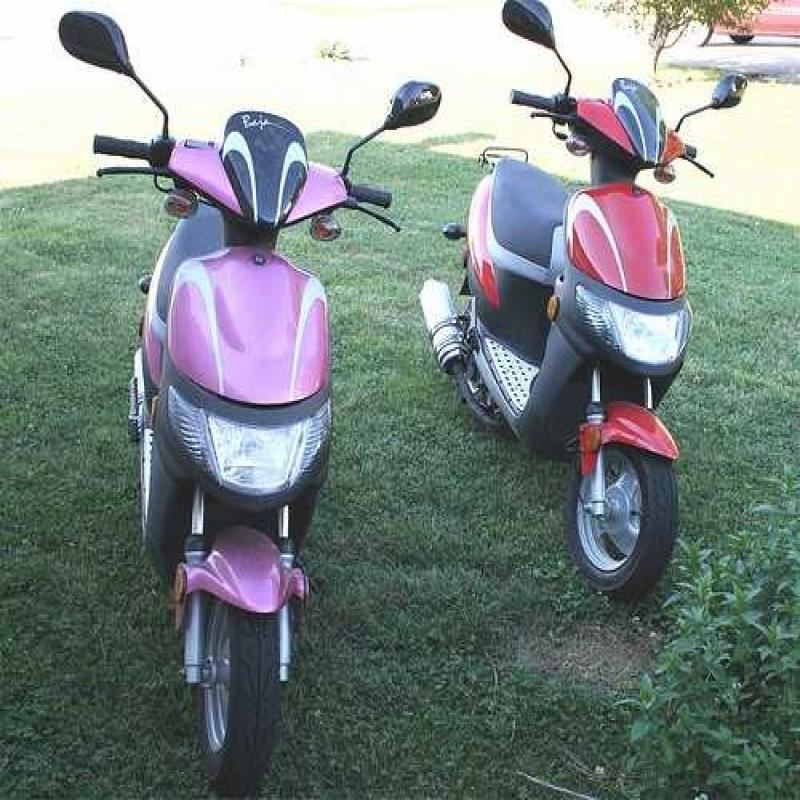bike: (66, 2, 408, 800), (461, 16, 750, 596)
